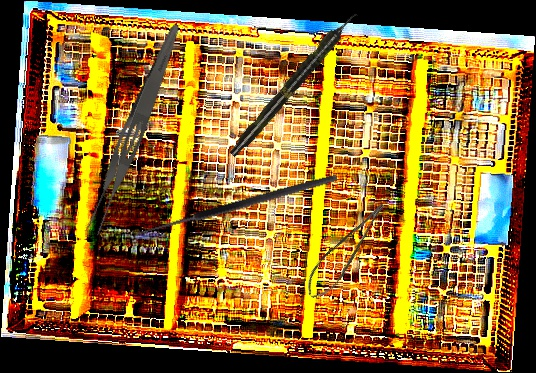Dressing Forceps: (80, 18, 186, 239)
Handpiece: (226, 7, 362, 161)
Hook Surgical: (135, 172, 341, 249)
Micro Scissor: (296, 200, 401, 304)
